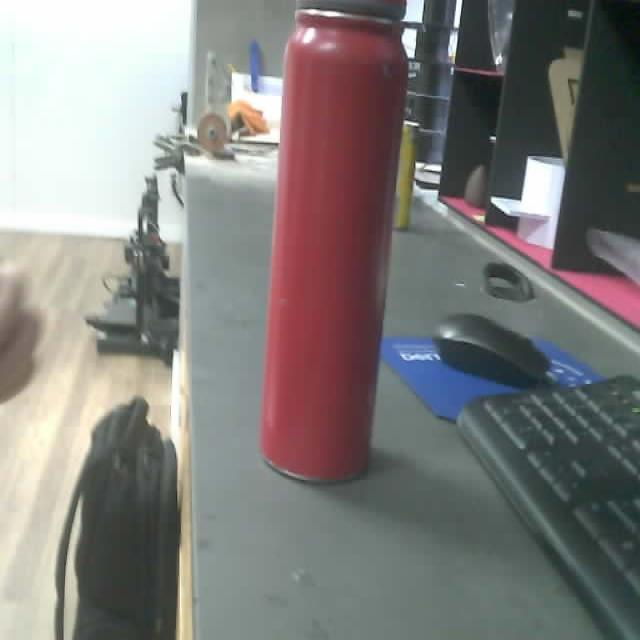water bottle: (258, 2, 409, 486)
